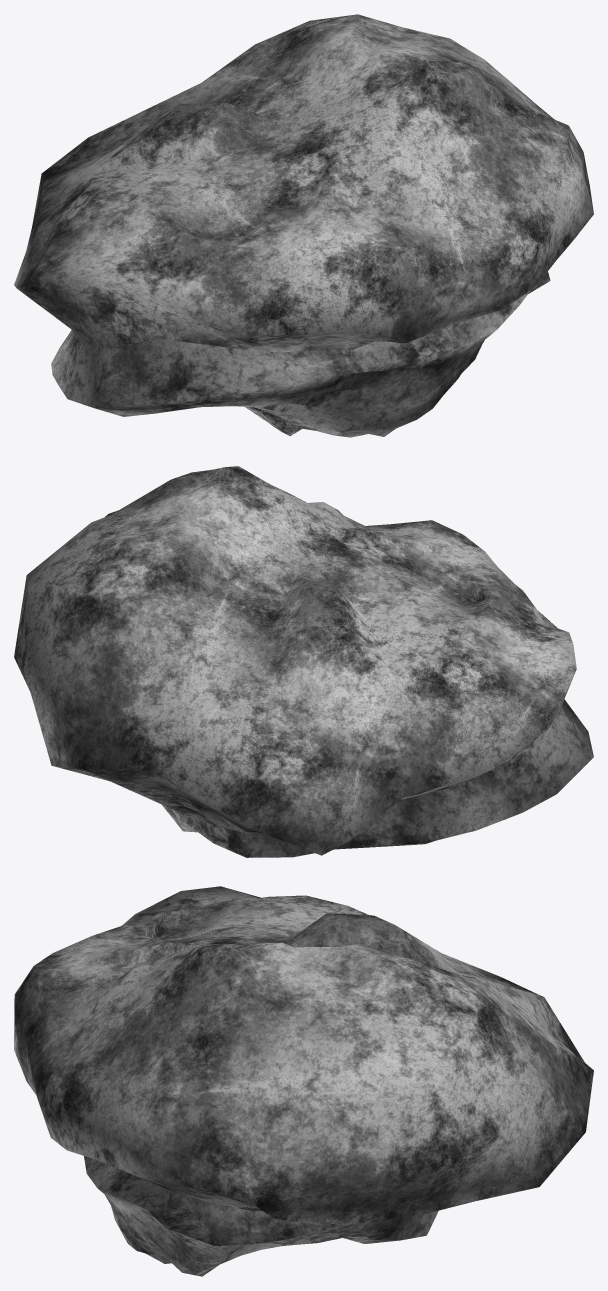
The model's file is Meteoroid01e.fbx.
The picture shows the model from 3 angles, top to bottom: view 1: azimuth 30°, elevation 25°; view 2: azimuth 150°, elevation 25°; view 3: azimuth 270°, elevation 25°; orthographic projection. The views are drawn at different scales.
Parts seen in each view (by area): view 1: Meteoroid01e; view 2: Meteoroid01e; view 3: Meteoroid01e.
Part boxes in pixels (left/top/right/bottom): Meteoroid01e: left=14, top=14, right=593, bottom=437; Meteoroid01e: left=14, top=466, right=593, bottom=857; Meteoroid01e: left=14, top=886, right=593, bottom=1276.
Size of the model in its own units: 495 by 299 by 444.
